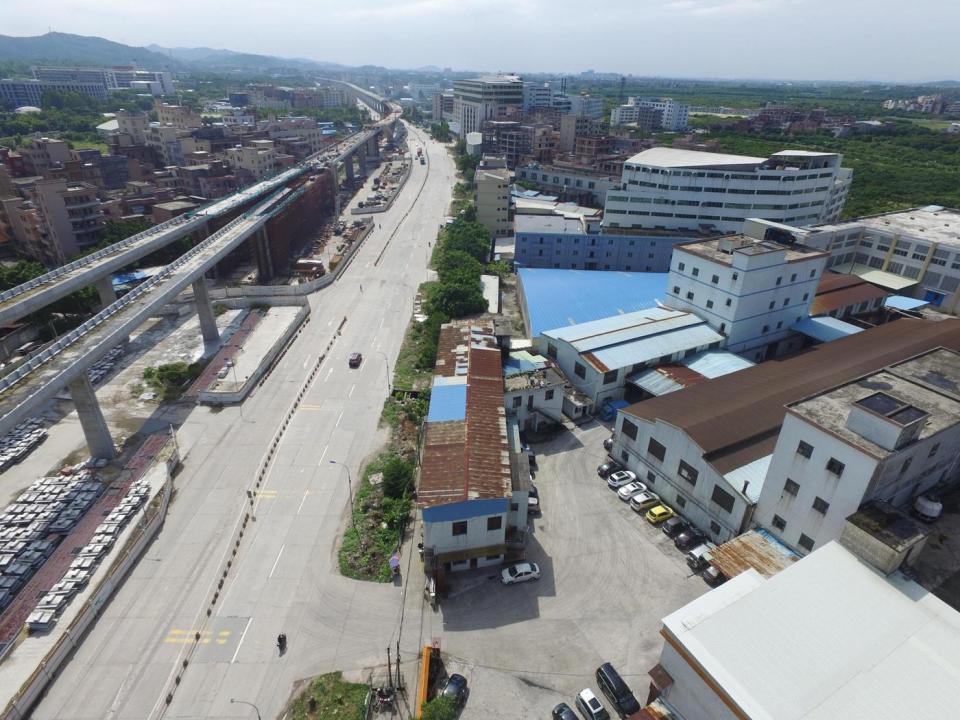bus: (428, 134, 434, 140)
car: (574, 688, 610, 720), (440, 674, 466, 714), (499, 563, 540, 586), (702, 559, 736, 585), (686, 542, 720, 567), (552, 702, 586, 720), (630, 492, 659, 513), (602, 429, 632, 449), (664, 516, 689, 537), (676, 529, 705, 547), (618, 482, 646, 500), (511, 496, 537, 514), (608, 470, 635, 487), (646, 508, 673, 524), (597, 464, 625, 478), (515, 486, 539, 499), (502, 440, 528, 452), (508, 451, 535, 462), (516, 462, 534, 474), (513, 474, 532, 483), (349, 352, 361, 366), (414, 156, 418, 160)
truck: (600, 399, 630, 422), (328, 252, 344, 270), (417, 147, 422, 157), (420, 154, 424, 165)
van: (596, 663, 641, 718)
